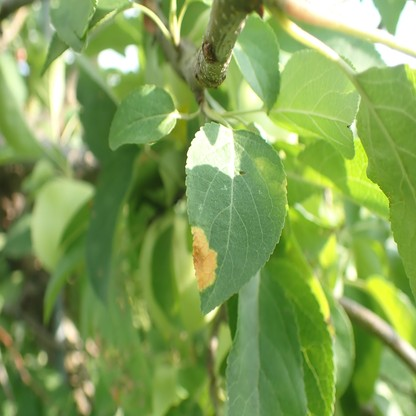rust: (191, 223, 218, 292)
